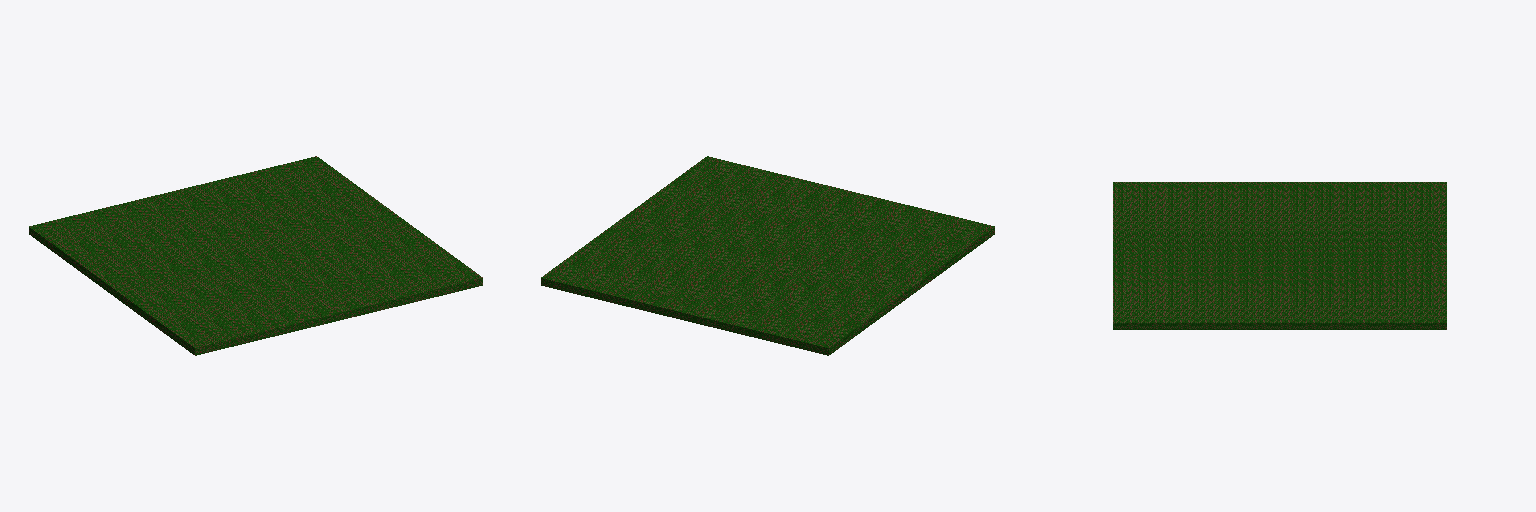
The picture shows the model from 3 angles: view 1: azimuth 30°, elevation 25°; view 2: azimuth 150°, elevation 25°; view 3: azimuth 270°, elevation 25°; orthographic projection.
Parts seen in each view (by area): view 1: Mesh1 ___1_1 Model; view 2: Mesh1 ___1_1 Model; view 3: Mesh1 ___1_1 Model.
Boxes of the visible parts, x1=… form: Mesh1 ___1_1 Model: x1=29, y1=156, x2=482, y2=355; Mesh1 ___1_1 Model: x1=541, y1=156, x2=994, y2=355; Mesh1 ___1_1 Model: x1=1113, y1=182, x2=1446, y2=329.
Bounding box in the file's own units: 40 × 1 × 40.
1 materials, 1 textured.